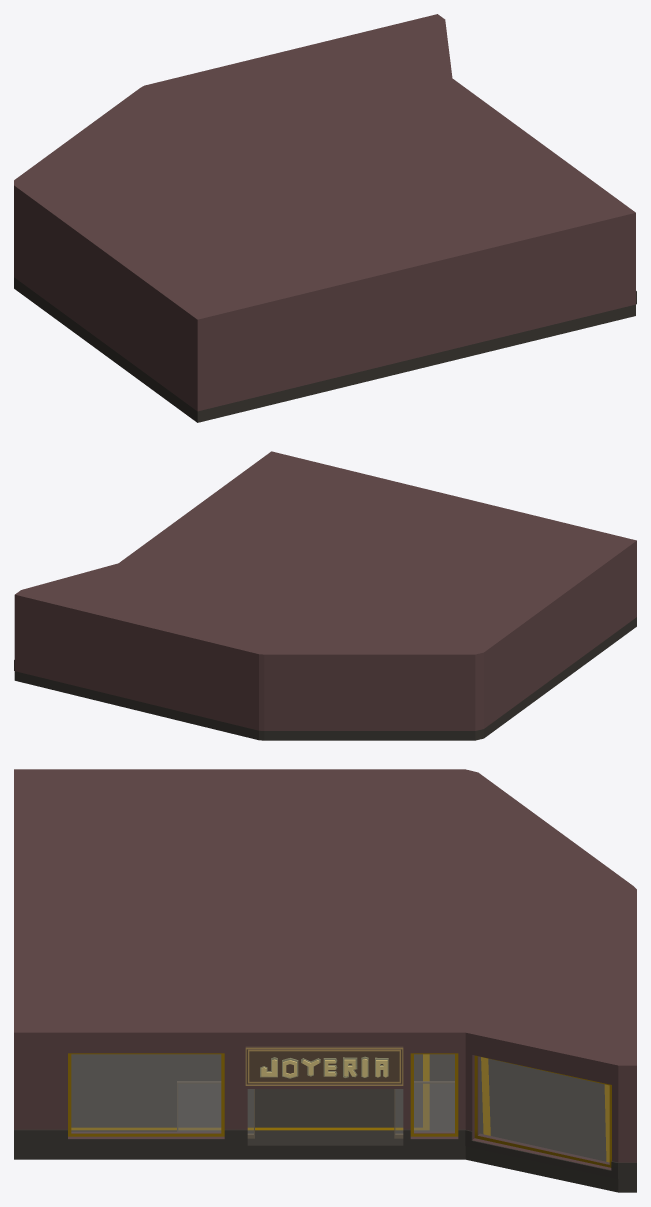
The model's file is Tienda de Joyeria 1.fbx.
3 renders of one model, top to bottom at view 1: azimuth 30°, elevation 25°; view 2: azimuth 150°, elevation 25°; view 3: azimuth 270°, elevation 25°, orthographic. The views are drawn at different scales.
Visible parts, largest first — view 1: Techo_8, Pared_31x10x3, Pared_20x10x1, Piso8, Esquina2_1x10x1, Esquina2_1x10x2; view 2: Techo_8, Pared2_20x10x1, Pared_1x10x20, Pared_20x10x1, Piso8, Esquina2_1x10x1, Pared_20x10x11, Pared_20x10x2; view 3: Techo_8, Piso8, Fachada_8, Vidrio_Joy_1, Vidrio_Joy_3, Fachada_9, Letrero_7, Vidrio_Joy_2, Esquina2_1x10x2, Vidrio_Puerta_Joy_1, Vidrio_Puerta_Joy_2, Pared_20x10x11.
Boxes of the visible parts, x1,y1,x2,y2 form: Techo_8: [14, 14, 635, 330]; Pared_31x10x3: [219, 229, 613, 405]; Pared_20x10x1: [14, 197, 184, 401]; Piso8: [14, 277, 635, 422]; Esquina2_1x10x1: [185, 322, 219, 411]; Esquina2_1x10x2: [614, 224, 636, 309]; Techo_8: [14, 451, 636, 663]; Pared2_20x10x1: [24, 606, 258, 730]; Pared_1x10x20: [264, 664, 475, 730]; Pared_20x10x1: [484, 558, 626, 728]; Piso8: [14, 617, 636, 740]; Esquina2_1x10x1: [626, 550, 636, 624]; Pared_20x10x11: [14, 604, 23, 673]; Pared_20x10x2: [475, 662, 483, 730]; Techo_8: [14, 769, 636, 1079]; Piso8: [14, 1054, 636, 1192]; Fachada_8: [45, 1046, 465, 1145]; Vidrio_Joy_1: [71, 1054, 220, 1132]; Vidrio_Joy_3: [478, 1057, 609, 1163]; Fachada_9: [465, 1047, 618, 1178]; Letrero_7: [245, 1046, 403, 1085]; Vidrio_Joy_2: [414, 1054, 454, 1132]; Esquina2_1x10x2: [14, 1046, 44, 1145]; Vidrio_Puerta_Joy_1: [178, 1084, 253, 1133]; Vidrio_Puerta_Joy_2: [395, 1084, 454, 1133]; Pared_20x10x11: [618, 1079, 636, 1178].
Bounding box in the file's own units: 45.09 × 9 × 40.
